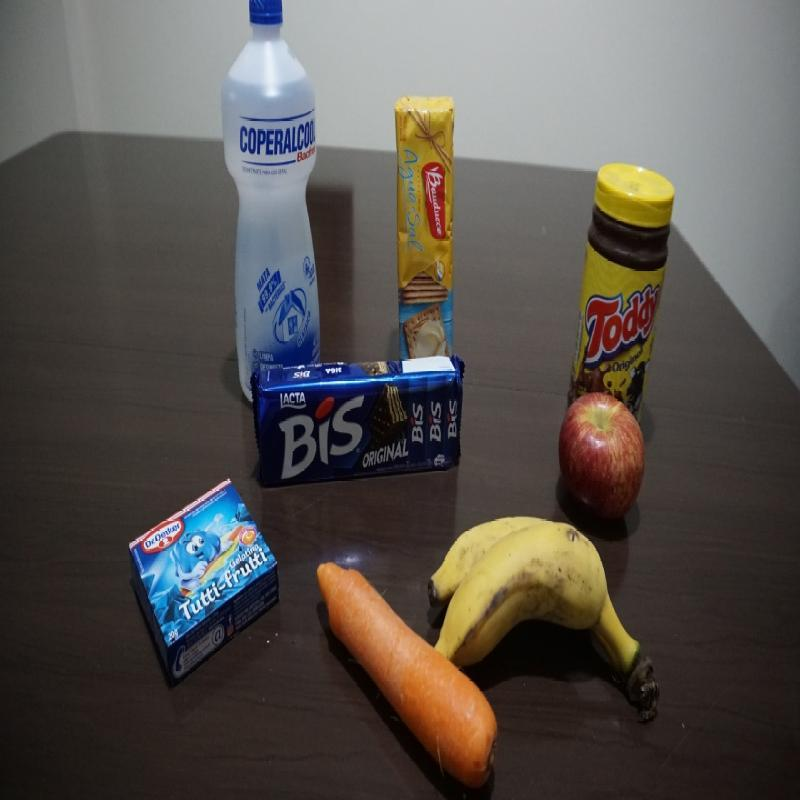Alcohol Bottle: (226, 2, 324, 358)
Apple: (558, 393, 648, 518)
Banana: (439, 518, 667, 732)
Carrot: (314, 559, 434, 769)
Chocolate Powder: (578, 165, 676, 378)
Cracker: (394, 95, 454, 354)
Gelatine: (121, 478, 282, 684)
